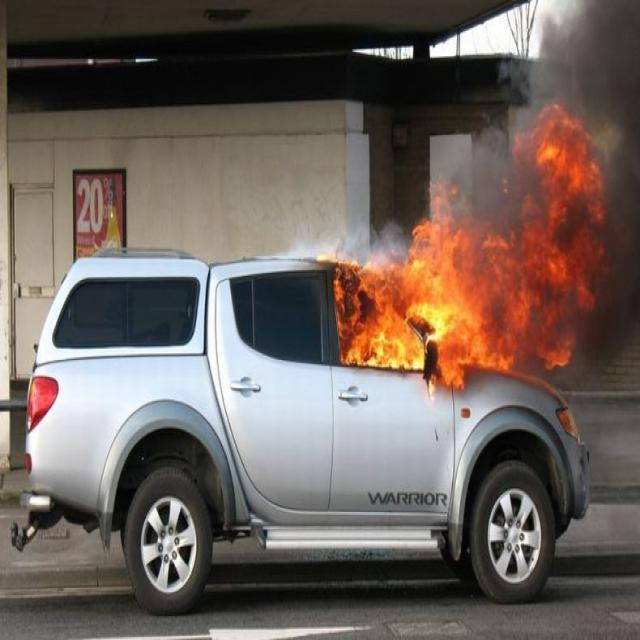Fire: (334, 118, 602, 386)
Smoke: (313, 0, 640, 403)
